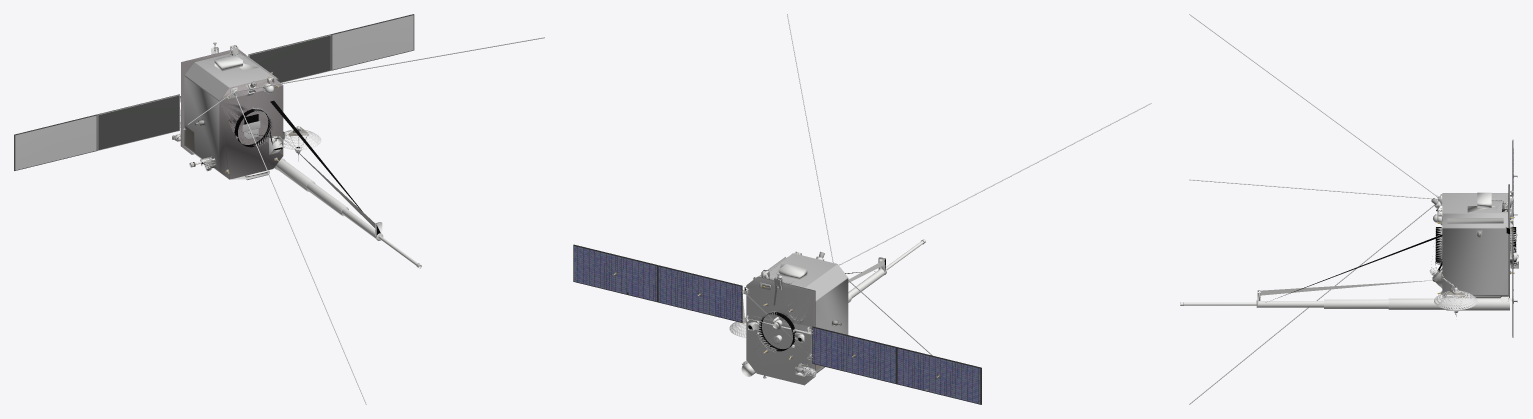
The model's file is Stereo-2016-comp.fbx.
The picture shows the model from 3 angles, left to right: view 1: azimuth 30°, elevation 25°; view 2: azimuth 150°, elevation 25°; view 3: azimuth 270°, elevation 25°; orthographic projection. The views are drawn at different scales.
Parts seen in each view (by area): view 1: imagetostl_mesh0; view 2: imagetostl_mesh0; view 3: imagetostl_mesh0.
Part boxes in pixels (bbox=[...]): imagetostl_mesh0: bbox=[14, 14, 544, 404]; imagetostl_mesh0: bbox=[573, 14, 1151, 404]; imagetostl_mesh0: bbox=[1180, 14, 1518, 404].
Bounding box in the file's own units: 3.12e+08 × 2.41e+08 × 2.4e+08.
